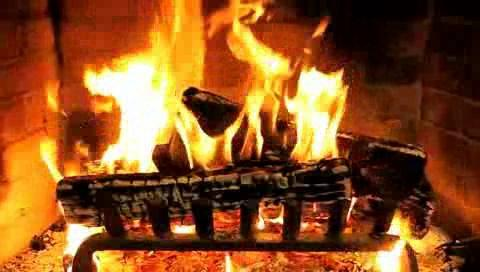fire: (79, 13, 356, 183)
